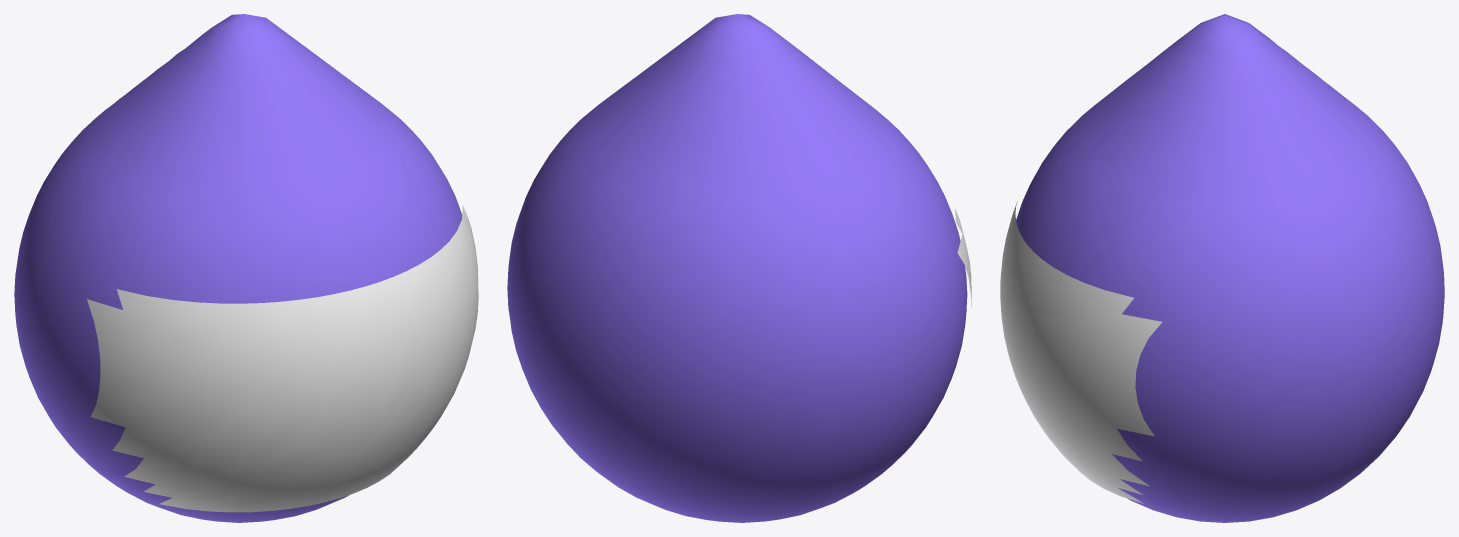
The model's file is head-drop.glb.
The picture shows the model from 3 angles, left to right: view 1: azimuth 30°, elevation 25°; view 2: azimuth 150°, elevation 25°; view 3: azimuth 270°, elevation 25°; orthographic projection.
Visible parts, largest first — view 1: head-drop-mesh, face; view 2: head-drop-mesh; view 3: head-drop-mesh, face.
Part boxes in pixels (x1,y1,x2,y2): head-drop-mesh: [14, 14, 462, 522]; face: [87, 205, 478, 512]; head-drop-mesh: [507, 14, 967, 522]; head-drop-mesh: [1016, 14, 1444, 522]; face: [1000, 201, 1161, 503].
Bounding box in the file's own units: 1.14 × 1.32 × 1.09.
